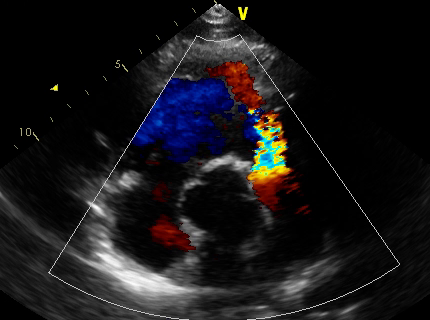PR: (247, 107, 293, 185)
